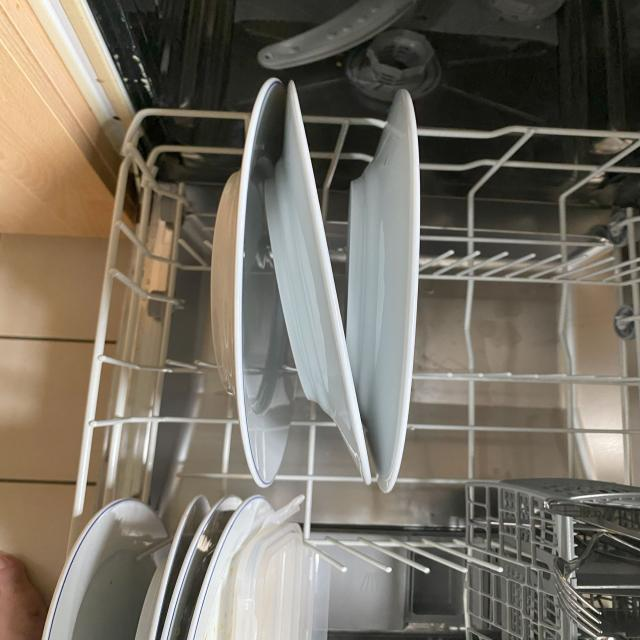empty_slot: (454, 137, 640, 469)
